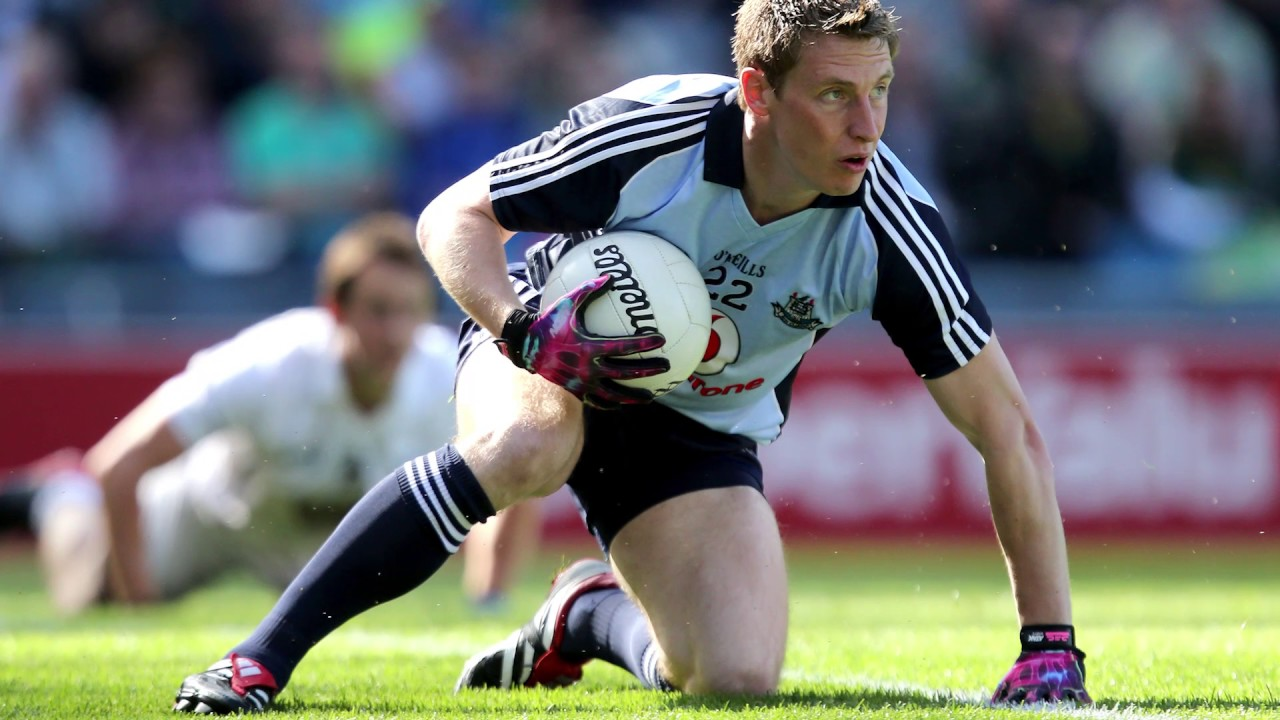ball: (548, 238, 708, 390)
player: (412, 6, 1085, 689)
